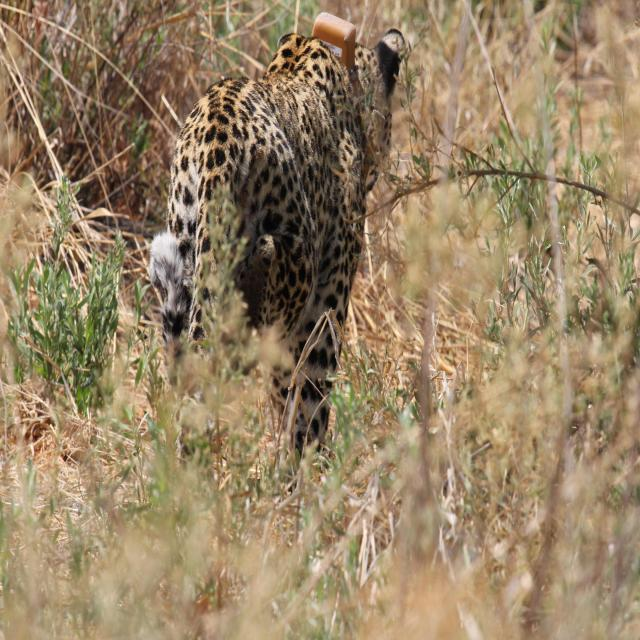Leopard: (156, 17, 394, 529)
